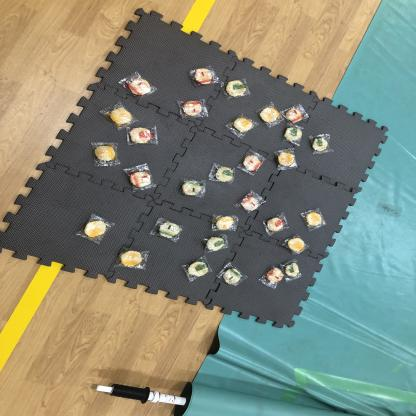green_setoshio: (218, 262, 250, 289), (149, 216, 184, 240), (182, 256, 212, 283), (220, 78, 255, 100), (206, 163, 239, 185), (179, 176, 207, 200), (203, 233, 230, 254), (310, 134, 334, 156), (283, 124, 304, 146), (283, 260, 305, 279)
red_setoshio: (119, 71, 158, 99), (173, 98, 214, 122), (124, 165, 157, 193), (126, 123, 162, 146), (238, 151, 268, 173), (235, 192, 266, 212), (190, 65, 218, 87), (260, 213, 288, 234), (284, 104, 311, 125), (259, 267, 287, 287)
yellow_setoshio: (84, 135, 122, 169), (79, 214, 116, 244), (102, 101, 137, 130), (113, 248, 150, 274), (272, 148, 302, 172), (300, 207, 330, 231), (229, 115, 258, 138), (284, 233, 312, 256), (258, 101, 282, 126), (212, 214, 243, 233)
